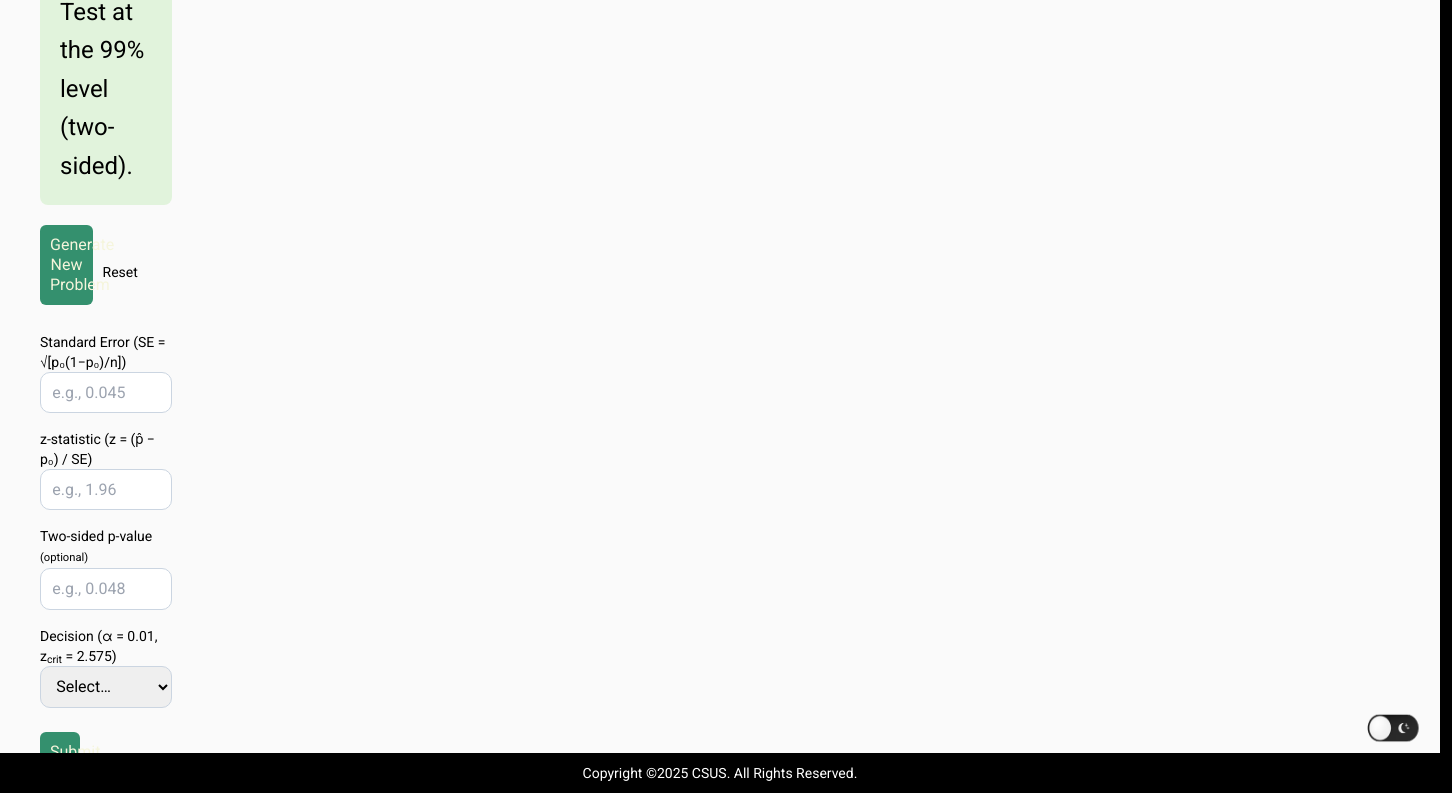
Test case: OPHT Problems Homework Features › should show if answers if correct or incorrect
(page scrolled)
Type "0.123" into the number field with placeholder "e.g., 0.045" at (107, 393), box [40,372,173,413]
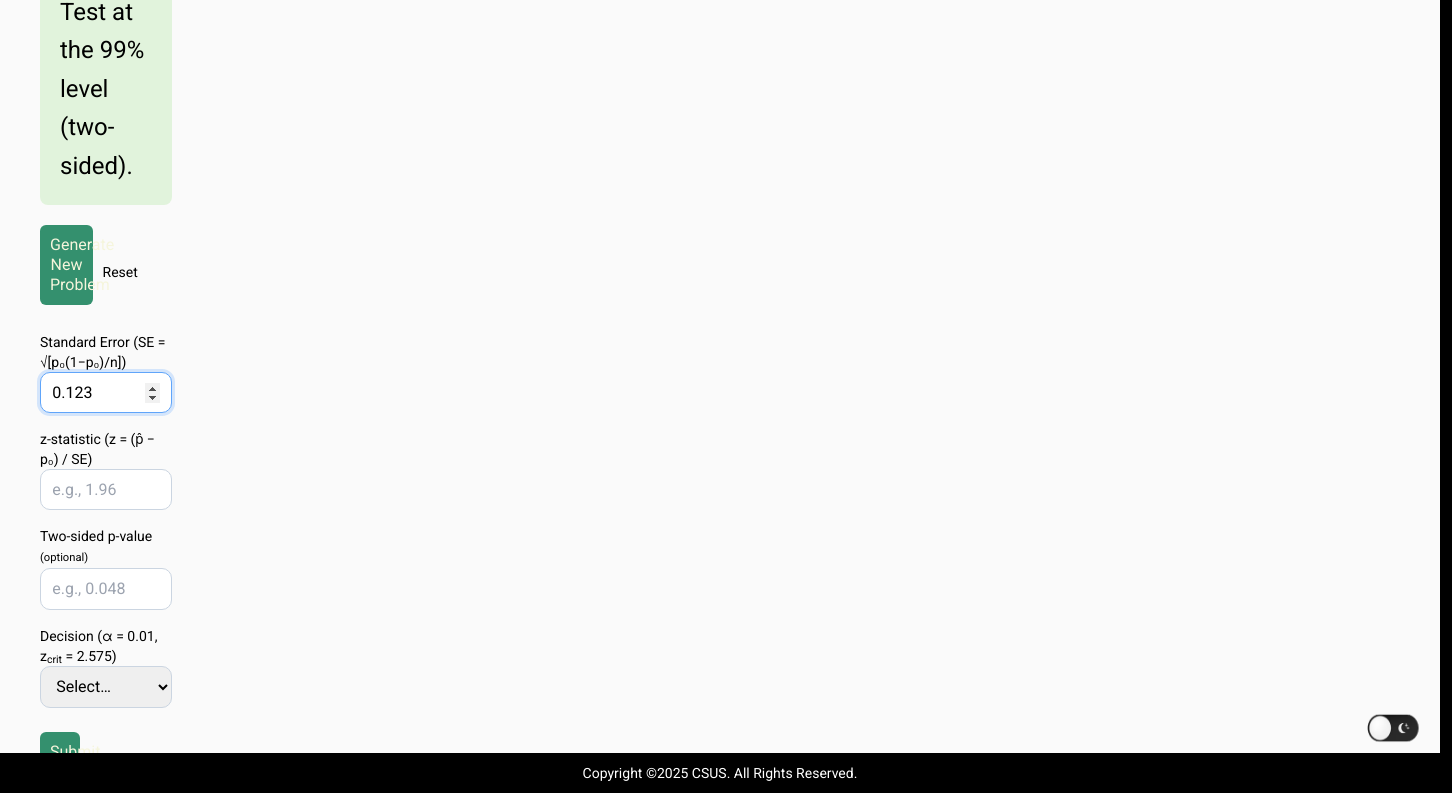
Type "0.456" into the number field with placeholder "e.g., 1.96" at (107, 490), box [40,469,173,510]
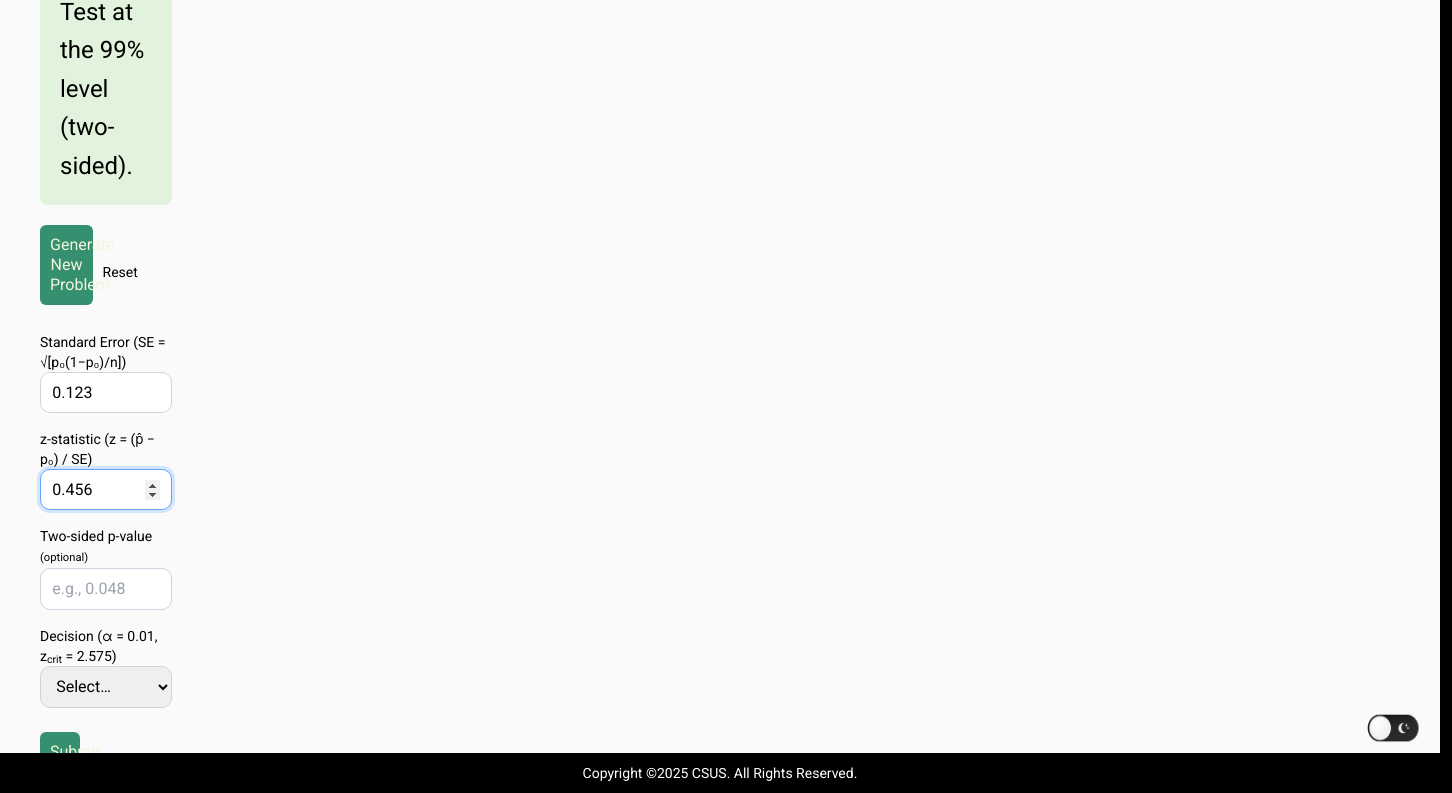
Type "0.789" into the number field with placeholder "e.g., 0.048" at (107, 589), box [40,568,173,609]
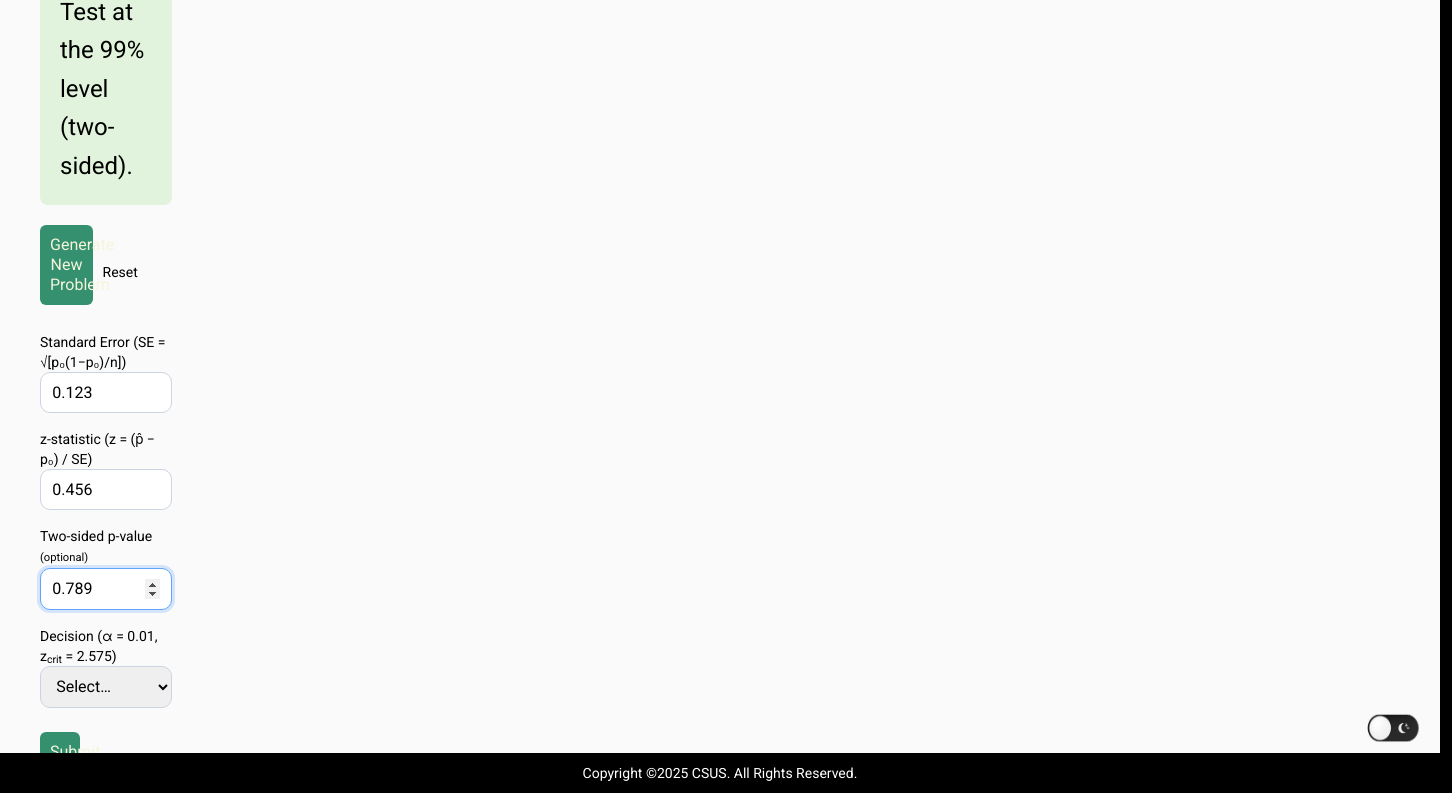
Select "1" in the dropdown at (107, 687), box [40,666,173,708]
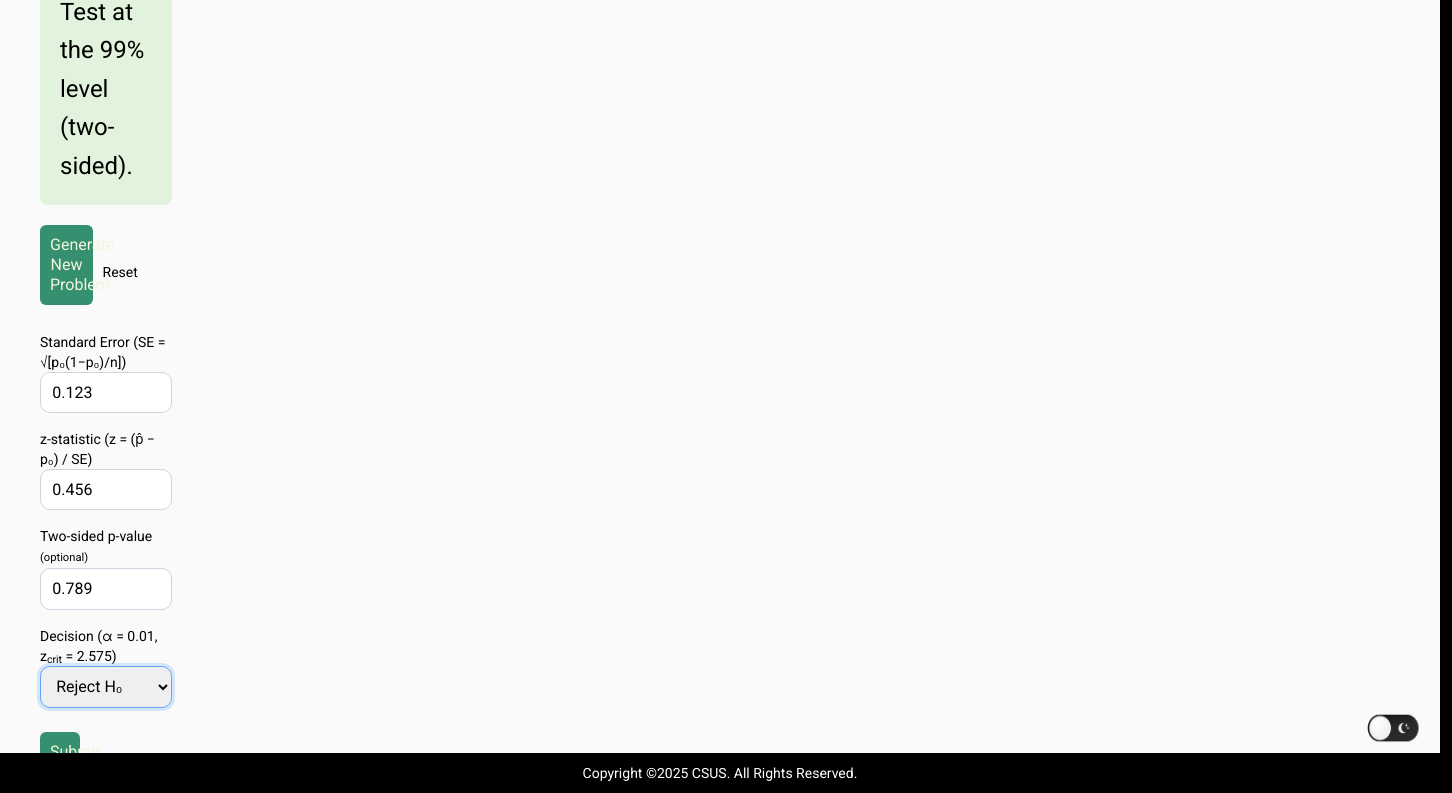
Scroll
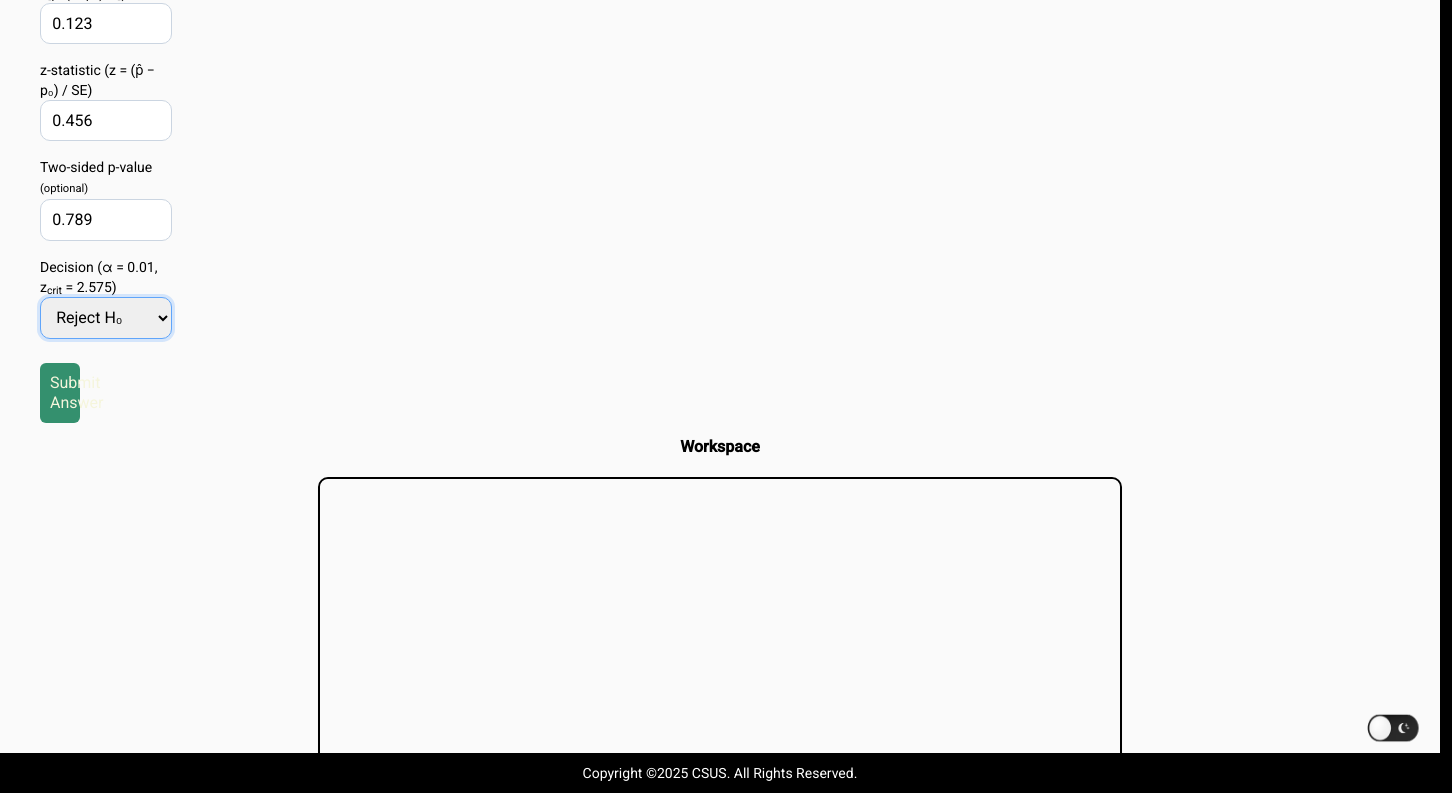
Click the button with class "submit-button" at (60, 393), box [40,363,80,423]
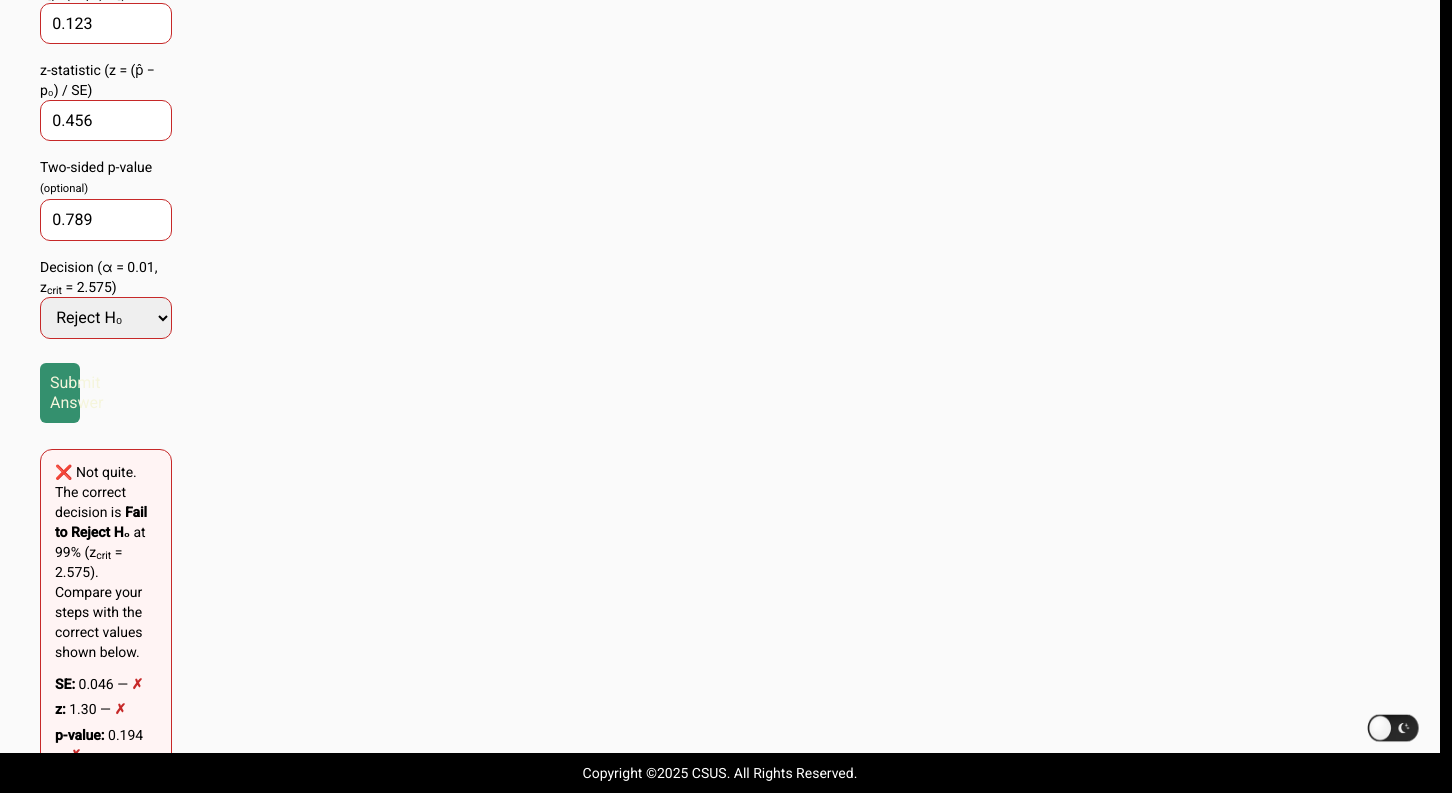
Expected: the element with class "answer-box" is shown, [40,449,172,792]
